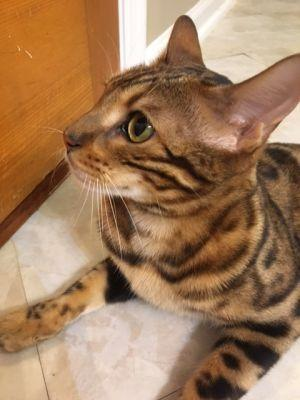bengal: (39, 1, 300, 215)
